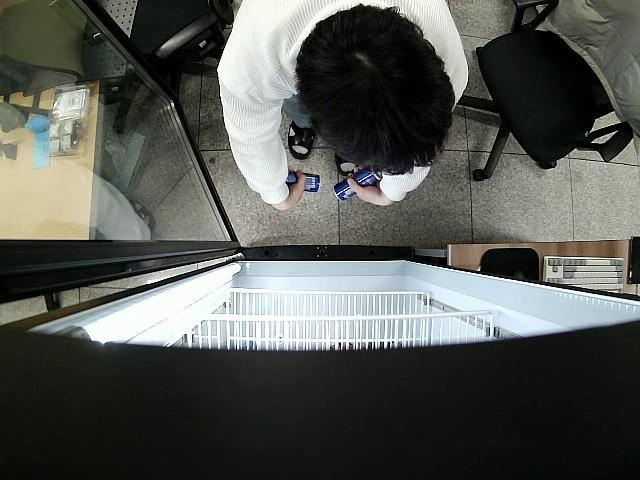16_hot6: (332, 163, 383, 202), (286, 170, 322, 192)
